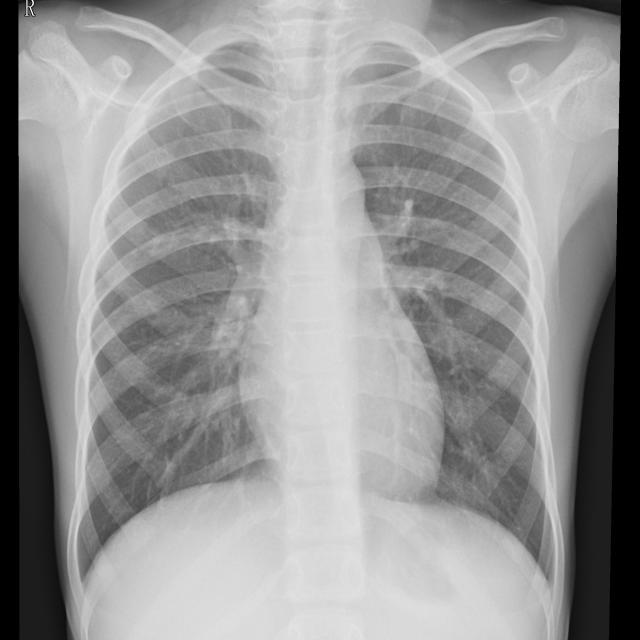no-pneumonia: (348, 43, 556, 580), (79, 41, 280, 572)
